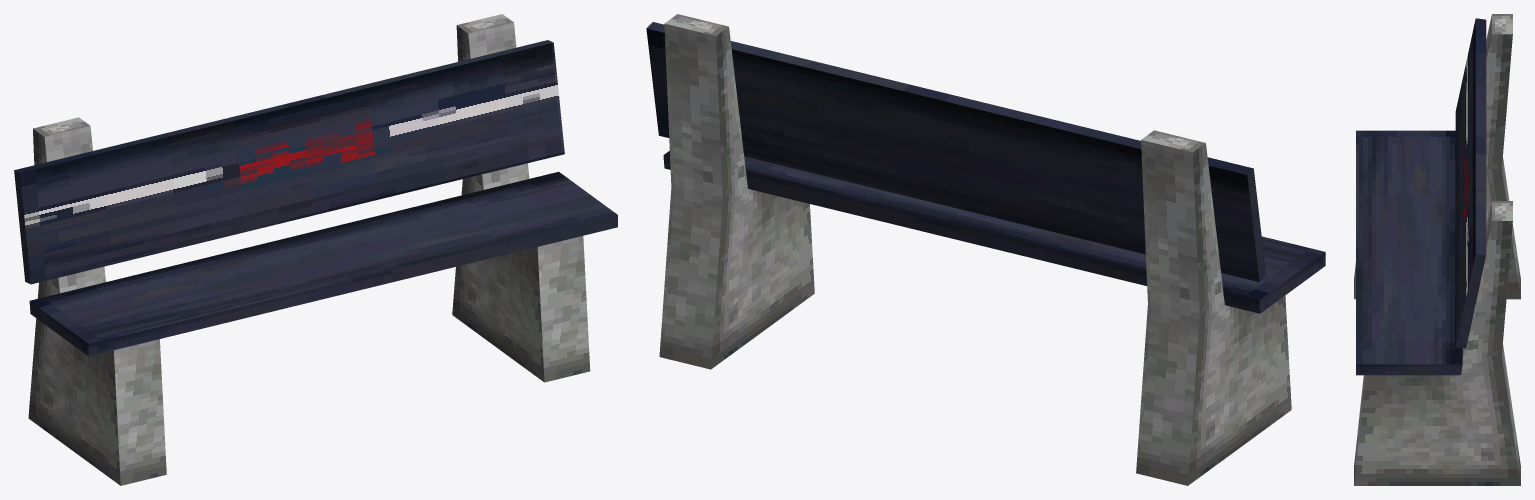
Rendered from Bench01.glb.
The picture shows the model from 3 angles, left to right: view 1: azimuth 30°, elevation 25°; view 2: azimuth 150°, elevation 25°; view 3: azimuth 270°, elevation 25°; orthographic projection. The views are drawn at different scales.
Visible parts, largest first — view 1: BENCH01; view 2: BENCH01; view 3: BENCH01.
Part boxes in pixels (x1=…): BENCH01: x1=14, y1=14, x2=617, y2=485; BENCH01: x1=646, y1=14, x2=1325, y2=485; BENCH01: x1=1354, y1=14, x2=1520, y2=485.
Bounding box in the file's own units: 1.75 × 0.918 × 0.524.
1 material, 1 textured.
